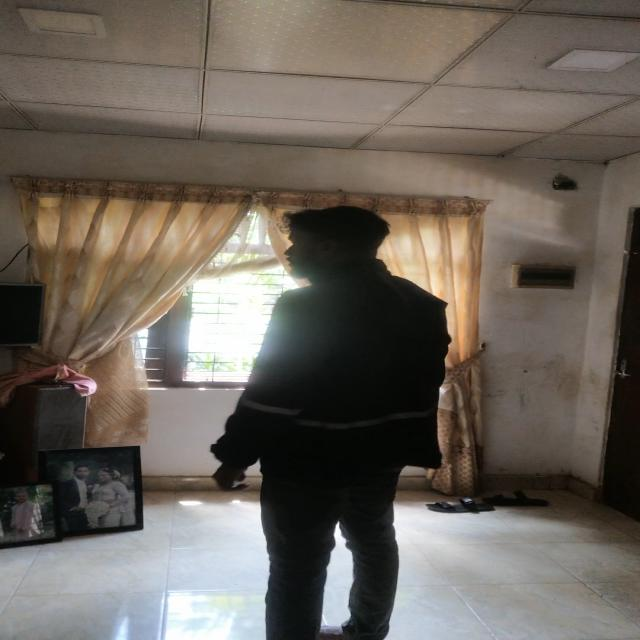Jacket_Wearer: (200, 276, 473, 478)
Person: (205, 200, 468, 640)
